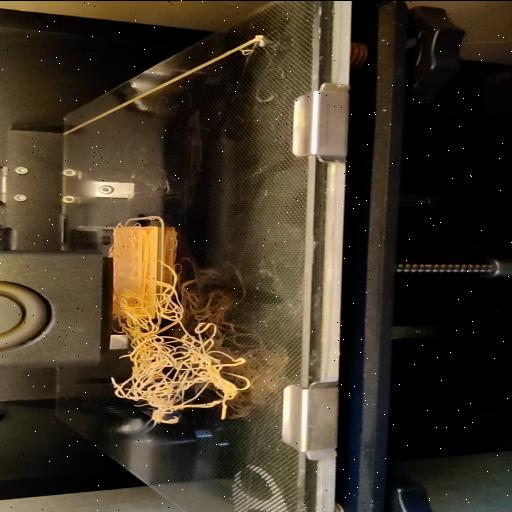spaghetti: (110, 277, 256, 427)
